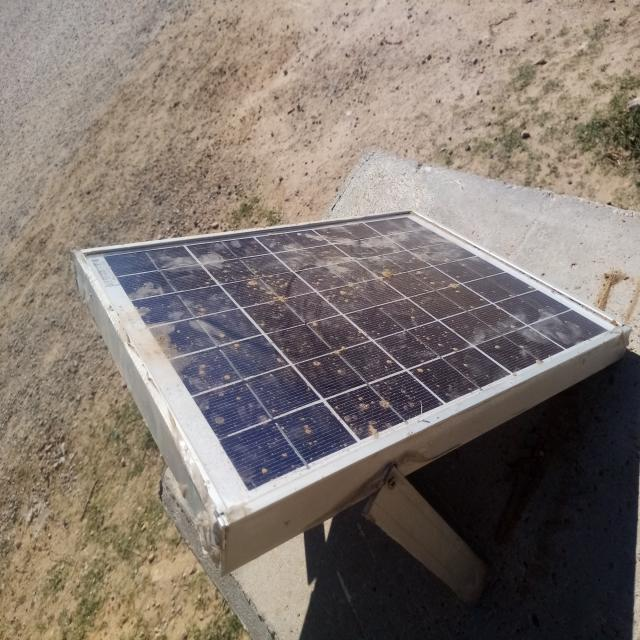faulty: (82, 211, 623, 519)
